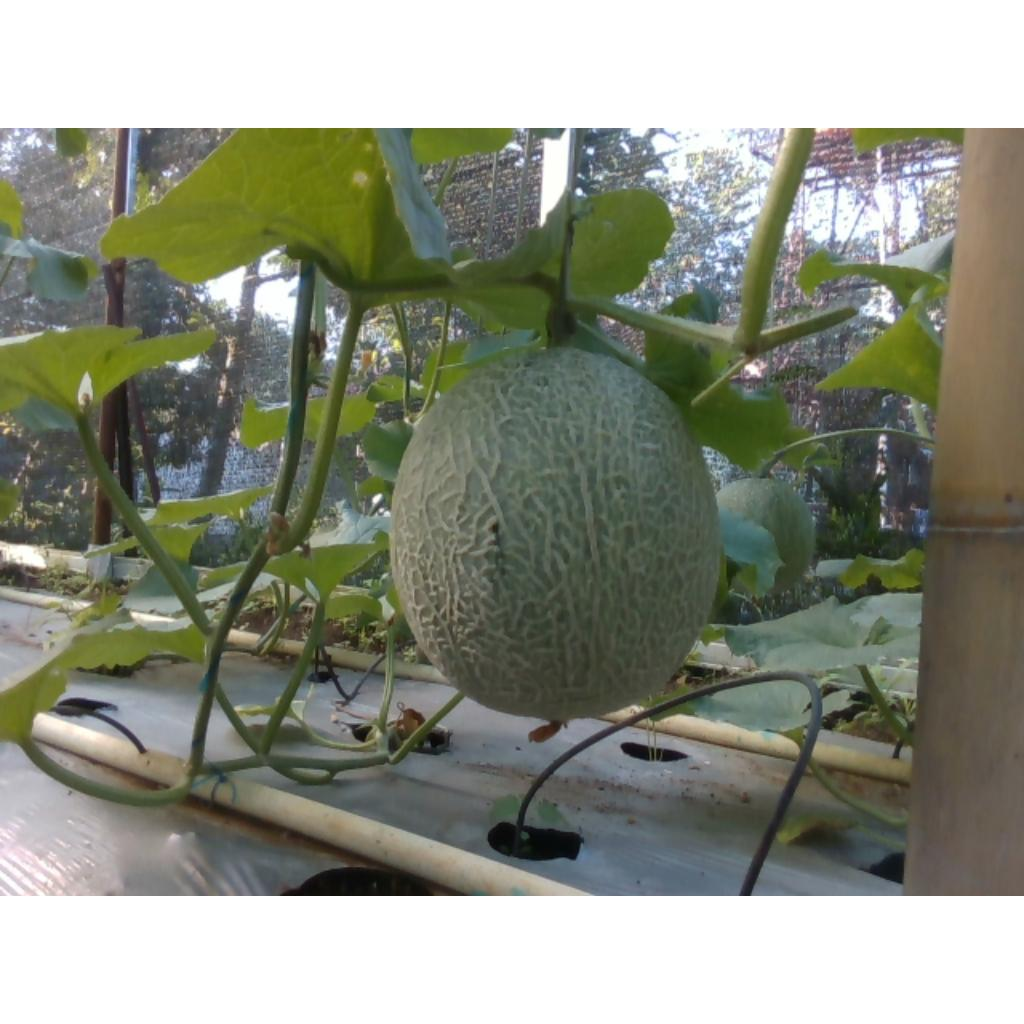melon: (392, 347, 723, 721)
